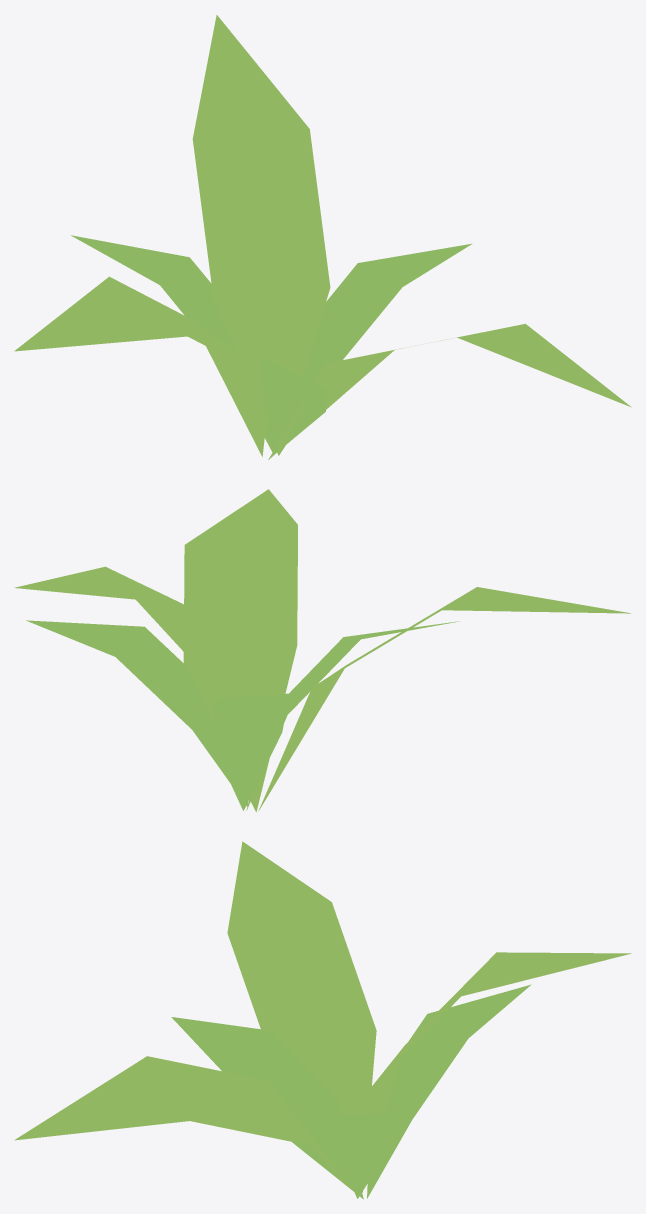
The model's file is Plant_b_TwoS_06.fbx.
3 renders of one model, top to bottom at view 1: azimuth 30°, elevation 25°; view 2: azimuth 150°, elevation 25°; view 3: azimuth 270°, elevation 25°, orthographic. The views are drawn at different scales.
Visible parts, largest first — view 1: Plant_b_TwoS_06; view 2: Plant_b_TwoS_06; view 3: Plant_b_TwoS_06.
Part boxes in pixels (left/top/right/bottom): Plant_b_TwoS_06: left=14, top=15, right=631, bottom=459; Plant_b_TwoS_06: left=14, top=489, right=630, bottom=812; Plant_b_TwoS_06: left=14, top=841, right=631, bottom=1199.
Bounding box in the file's own units: 0.727 × 0.4056 × 0.7899.
